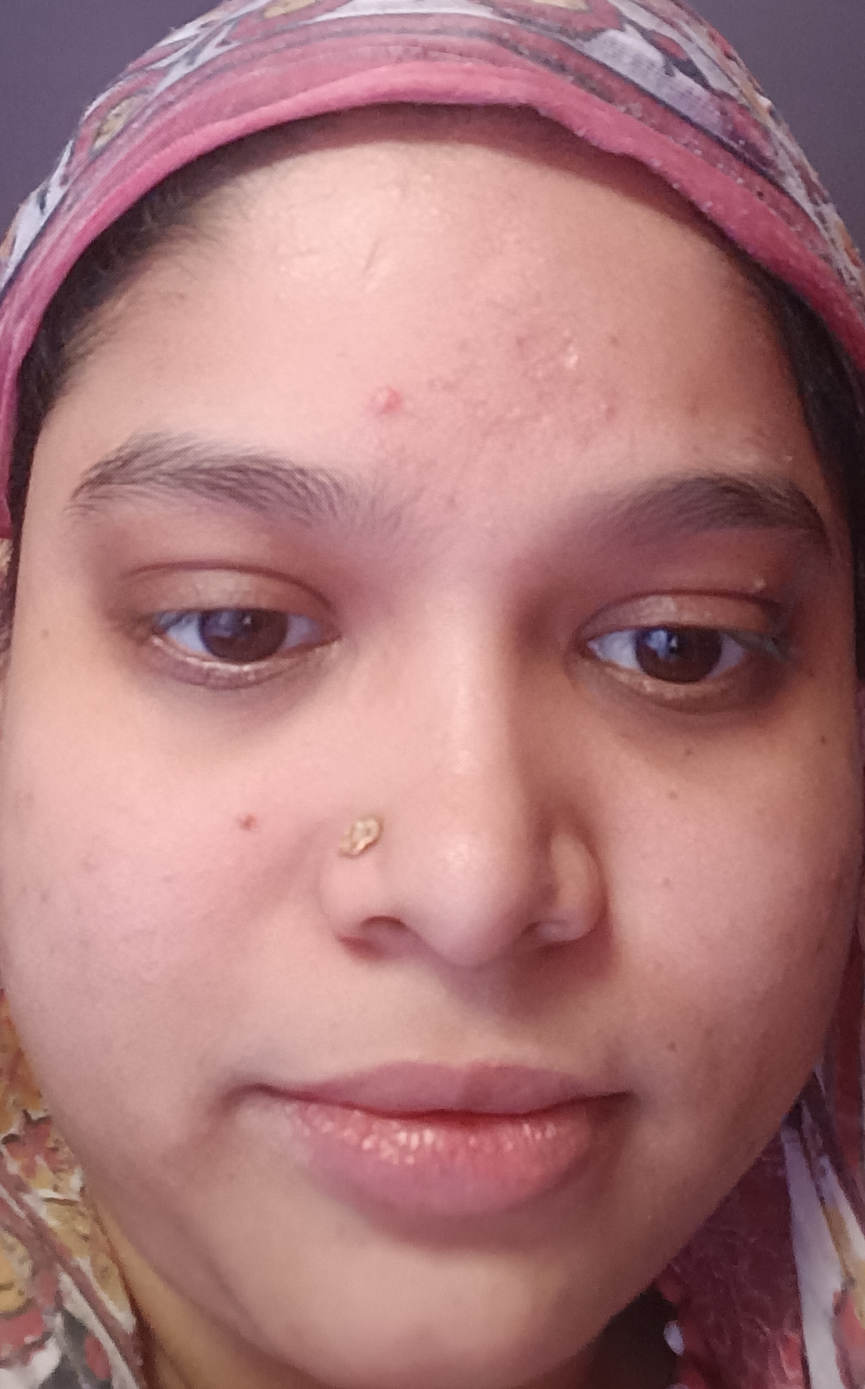papule: (357, 374, 428, 424)
